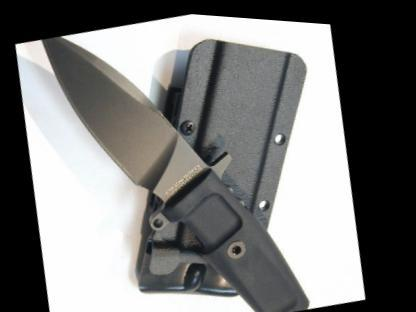knife: (19, 2, 236, 226)
